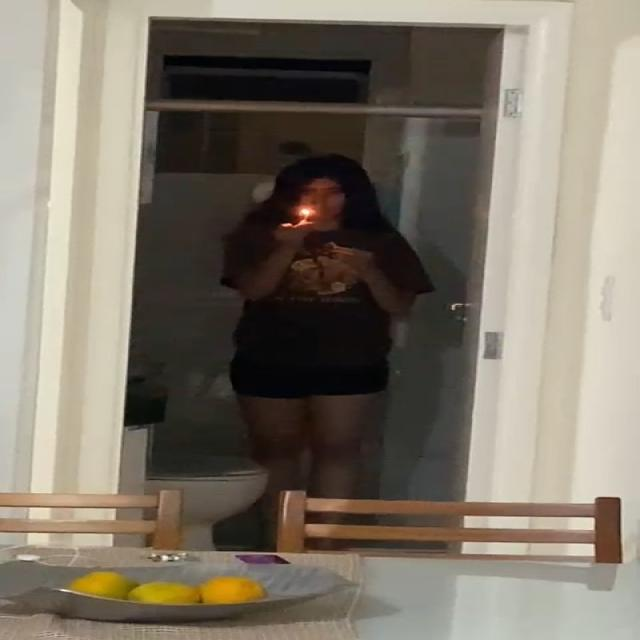fogo-ypXI: (296, 205, 316, 219)
